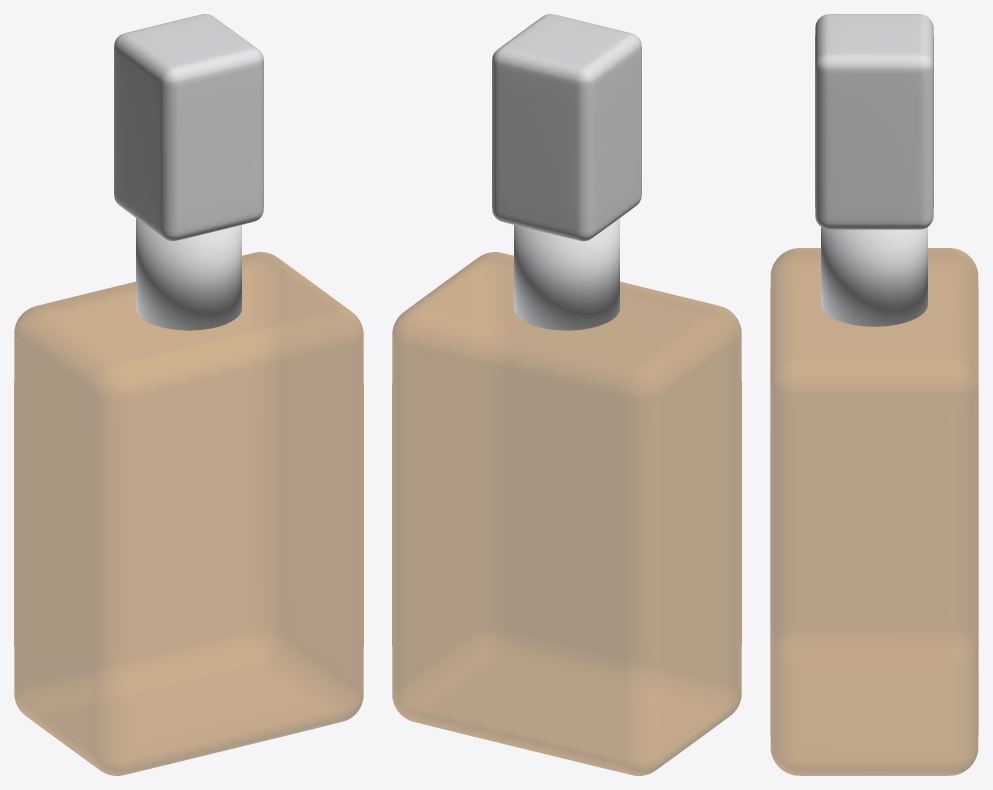
Rendered from botol_parfum_aruna.glb.
3 views of the same model, side by side, from view 1: azimuth 30°, elevation 25°; view 2: azimuth 150°, elevation 25°; view 3: azimuth 270°, elevation 25° (orthographic).
Visible parts, largest first — view 1: Leher_Botol; view 2: Leher_Botol; view 3: Leher_Botol.
Part boxes in pixels (x1,y1,x2,y2): Leher_Botol: (14, 14, 363, 775); Leher_Botol: (392, 14, 741, 775); Leher_Botol: (770, 14, 978, 775).
Size of the model in its own units: 1.05 by 2.54 by 0.6999.
